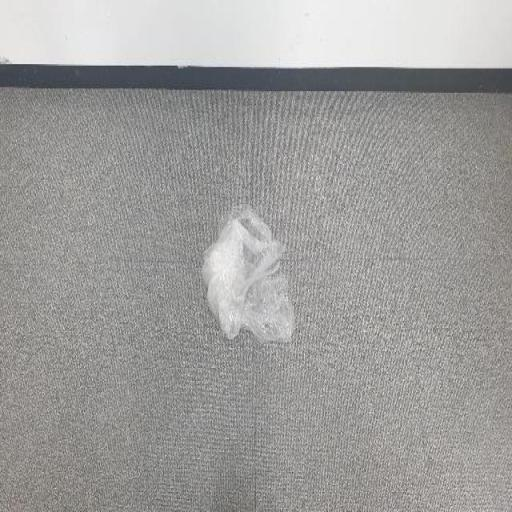plastic-bag: (200, 206, 295, 348)
